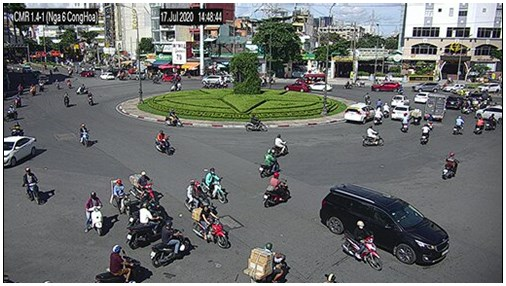xe_hoi: (320, 184, 450, 268), (3, 136, 37, 166), (345, 102, 375, 123), (476, 105, 505, 121), (284, 81, 311, 94), (413, 81, 441, 93), (392, 104, 410, 121), (309, 80, 333, 92), (371, 82, 403, 91), (201, 73, 222, 85), (478, 82, 500, 93), (445, 96, 461, 110), (444, 81, 464, 92), (392, 94, 410, 106), (414, 91, 430, 104), (100, 72, 114, 81), (80, 70, 94, 78)
xe_may: (342, 220, 383, 271), (151, 219, 192, 269), (93, 244, 144, 284), (242, 243, 290, 283), (193, 203, 228, 248), (186, 180, 214, 219), (263, 171, 290, 208), (201, 167, 227, 204), (85, 190, 104, 237), (23, 166, 42, 208), (109, 179, 130, 216), (259, 148, 281, 177), (361, 124, 385, 147), (153, 129, 171, 157), (268, 134, 289, 158), (244, 113, 267, 134), (442, 151, 458, 181), (165, 109, 183, 130), (79, 122, 91, 148), (420, 123, 432, 146), (452, 115, 464, 135), (5, 104, 18, 122), (10, 121, 24, 136), (486, 113, 497, 132), (474, 116, 484, 136), (401, 112, 410, 134), (373, 107, 383, 126), (169, 80, 182, 92), (86, 90, 95, 106), (75, 84, 88, 94), (13, 93, 21, 109), (216, 78, 227, 89), (63, 91, 70, 108), (382, 103, 390, 117), (364, 92, 372, 106), (461, 101, 470, 113), (29, 83, 36, 98), (37, 79, 44, 93), (17, 83, 24, 95), (65, 79, 72, 90), (54, 78, 60, 90)
